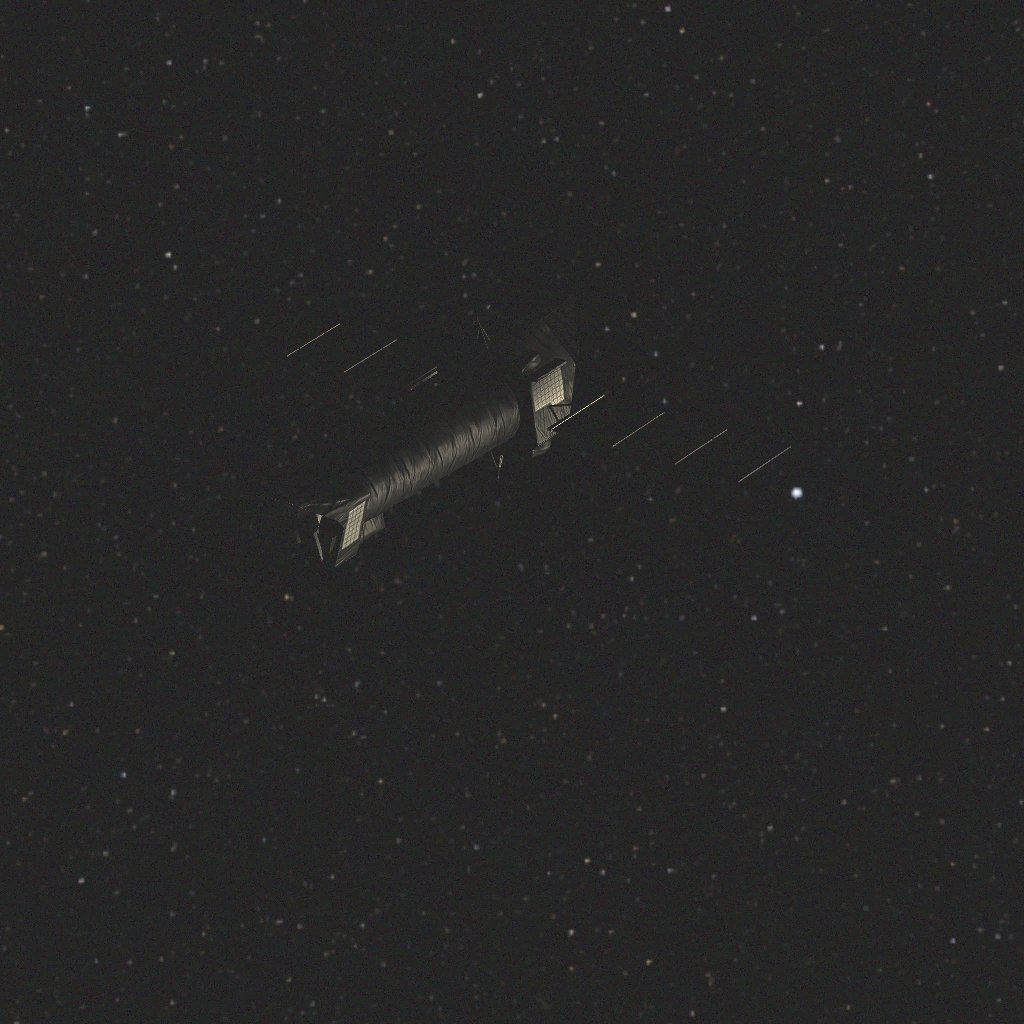xmm_newton: (232, 280, 791, 568)
